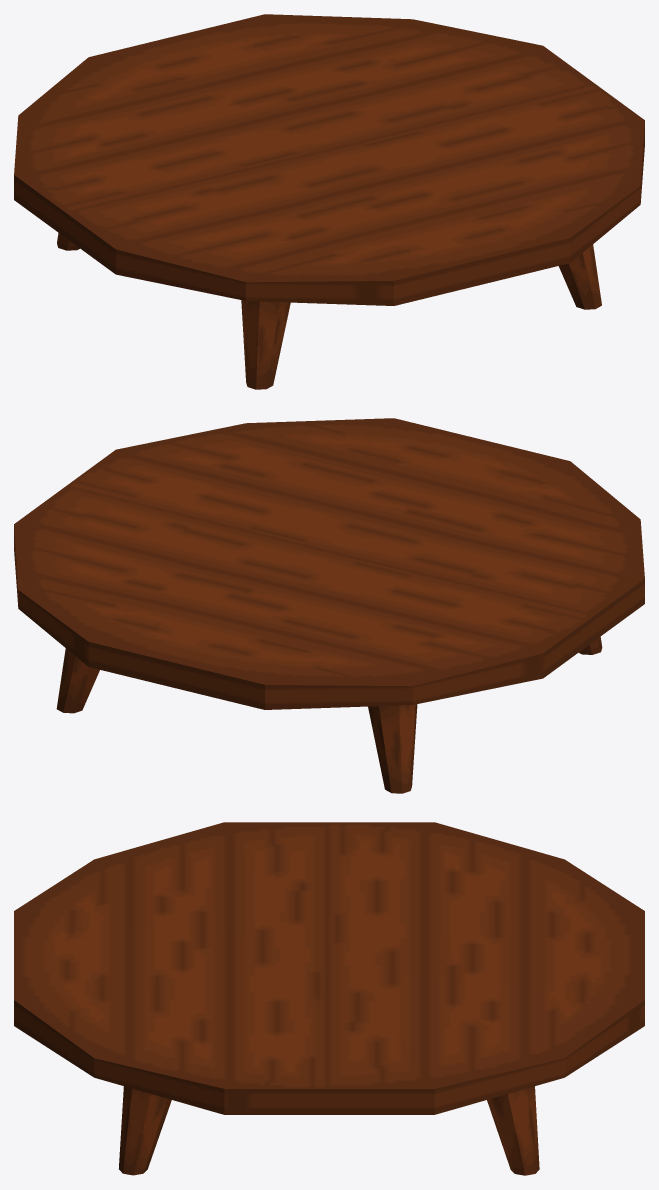
File: mesa .fbx
The picture shows the model from 3 angles, top to bottom: view 1: azimuth 30°, elevation 25°; view 2: azimuth 150°, elevation 25°; view 3: azimuth 270°, elevation 25°; orthographic projection. The views are drawn at different scales.
Parts seen in each view (by area): view 1: Cube; view 2: Cube; view 3: Cube.
Part boxes in pixels (bbox=[...]): Cube: bbox=[14, 14, 644, 389]; Cube: bbox=[14, 418, 644, 793]; Cube: bbox=[14, 822, 644, 1175].
Bounding box in the file's own units: 177 × 40.66 × 177.
1 material, 1 textured.
